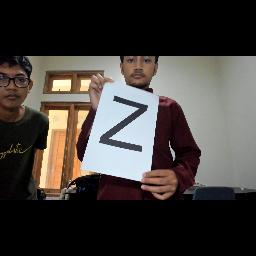z: (96, 88, 152, 158)
